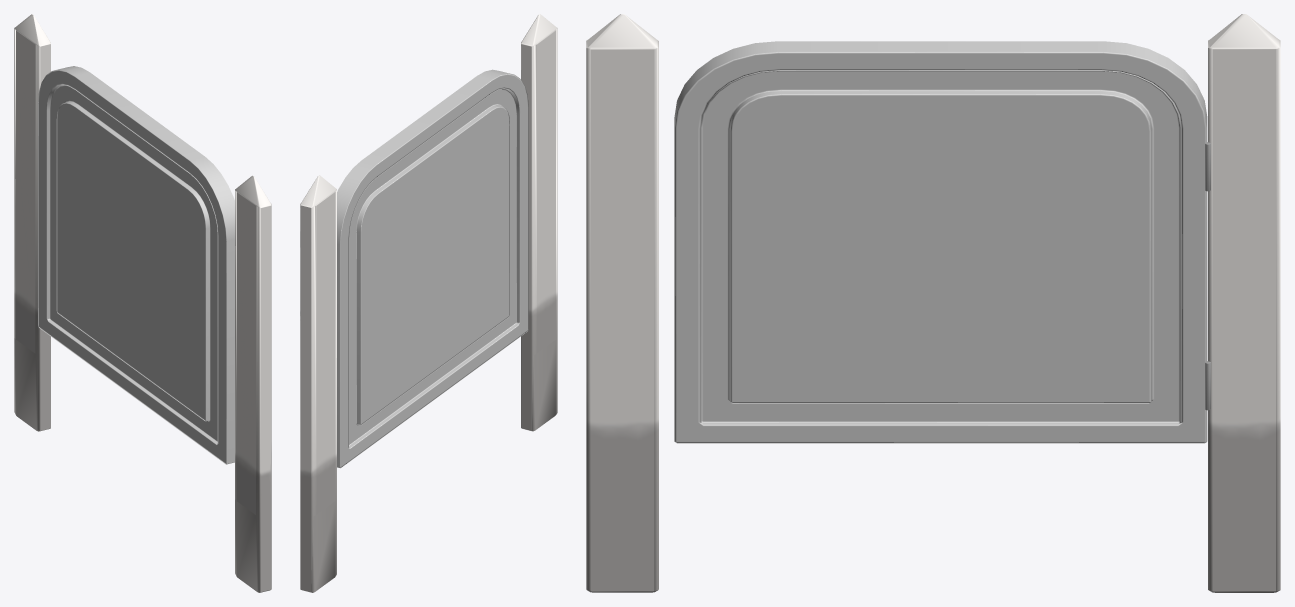
Rendered from Fence_Gate_02.fbx.
3 renders of one model, left to right at view 1: azimuth 30°, elevation 25°; view 2: azimuth 150°, elevation 25°; view 3: azimuth 270°, elevation 25°, orthographic. The views are drawn at different scales.
Visible parts, largest first — view 1: Fence_Gate_Main, Fence_Gate_el, Fence_Gate_el_02; view 2: Fence_Gate_Main, Fence_Gate_el_02, Fence_Gate_el; view 3: Fence_Gate_Main, Fence_Gate_el_02, Fence_Gate_el.
Boxes of the visible parts, bbox=[...] form: Fence_Gate_Main: bbox=[38, 66, 234, 464]; Fence_Gate_el: bbox=[235, 175, 271, 592]; Fence_Gate_el_02: bbox=[14, 14, 50, 431]; Fence_Gate_Main: bbox=[337, 69, 528, 468]; Fence_Gate_el_02: bbox=[300, 175, 336, 592]; Fence_Gate_el: bbox=[521, 14, 557, 431]; Fence_Gate_Main: bbox=[674, 41, 1207, 443]; Fence_Gate_el_02: bbox=[1205, 14, 1280, 592]; Fence_Gate_el: bbox=[586, 14, 658, 592].
Size of the model in its own units: 8.41 by 182 by 199.
